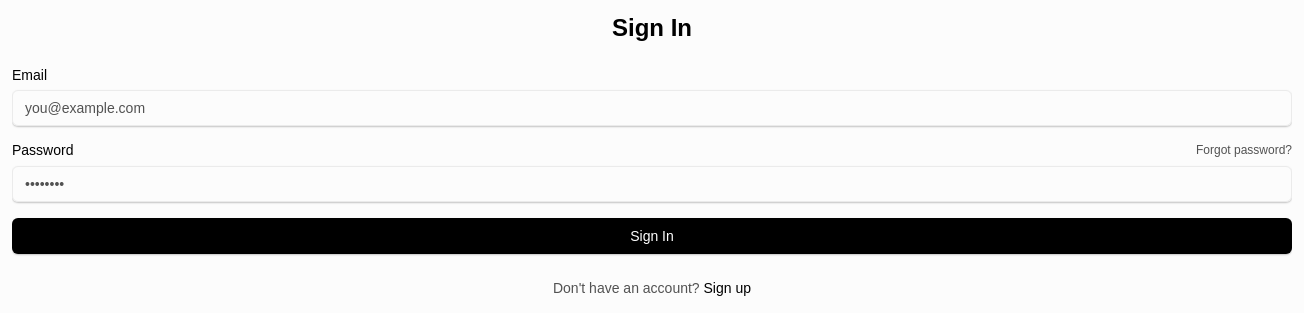
it: LoginForm › should disable submit button while submitting
In the field labelled "Email": point(652, 108) [12,90,1292,126], type "test@example.com"
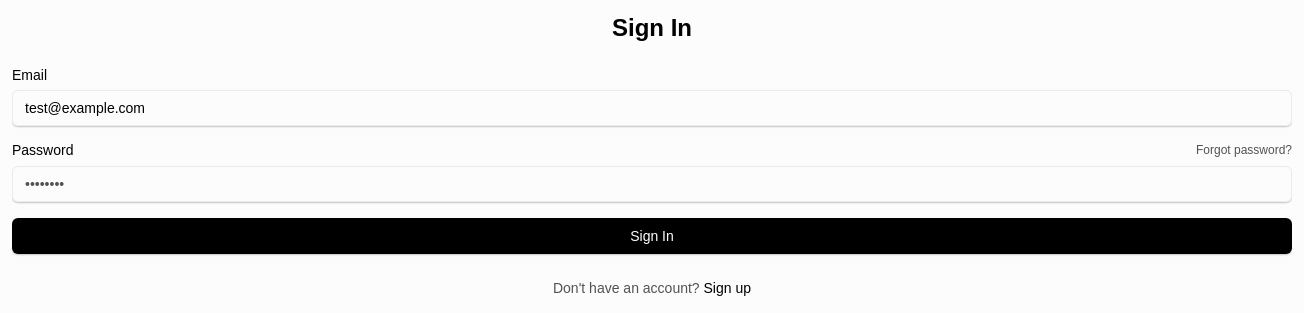
In the password field labelled "Password": point(652, 184) [12,166,1292,202], type "password123"
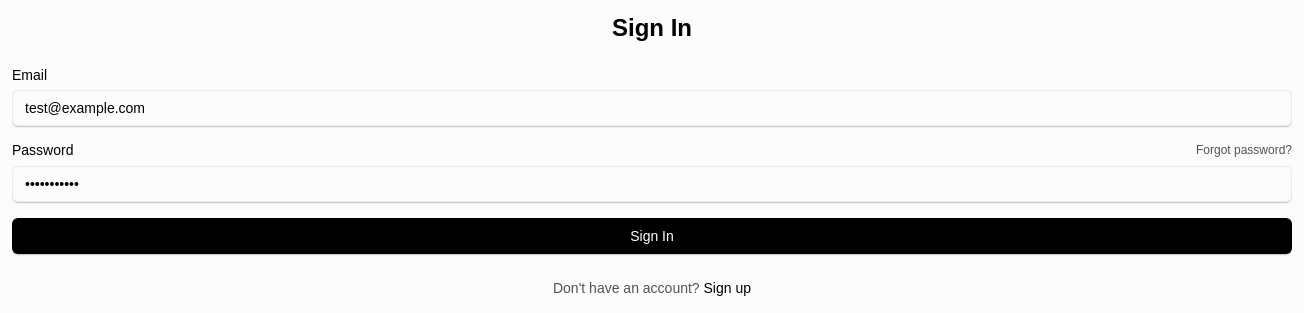
Click the button "Sign In": point(652, 236) [12,218,1292,254]
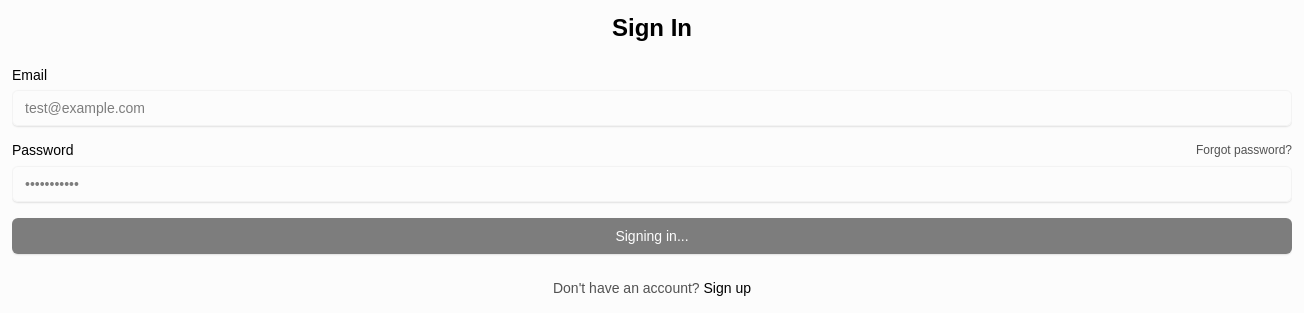
Expected: the button named "sign in" is disabled, [12,218,1292,254]
